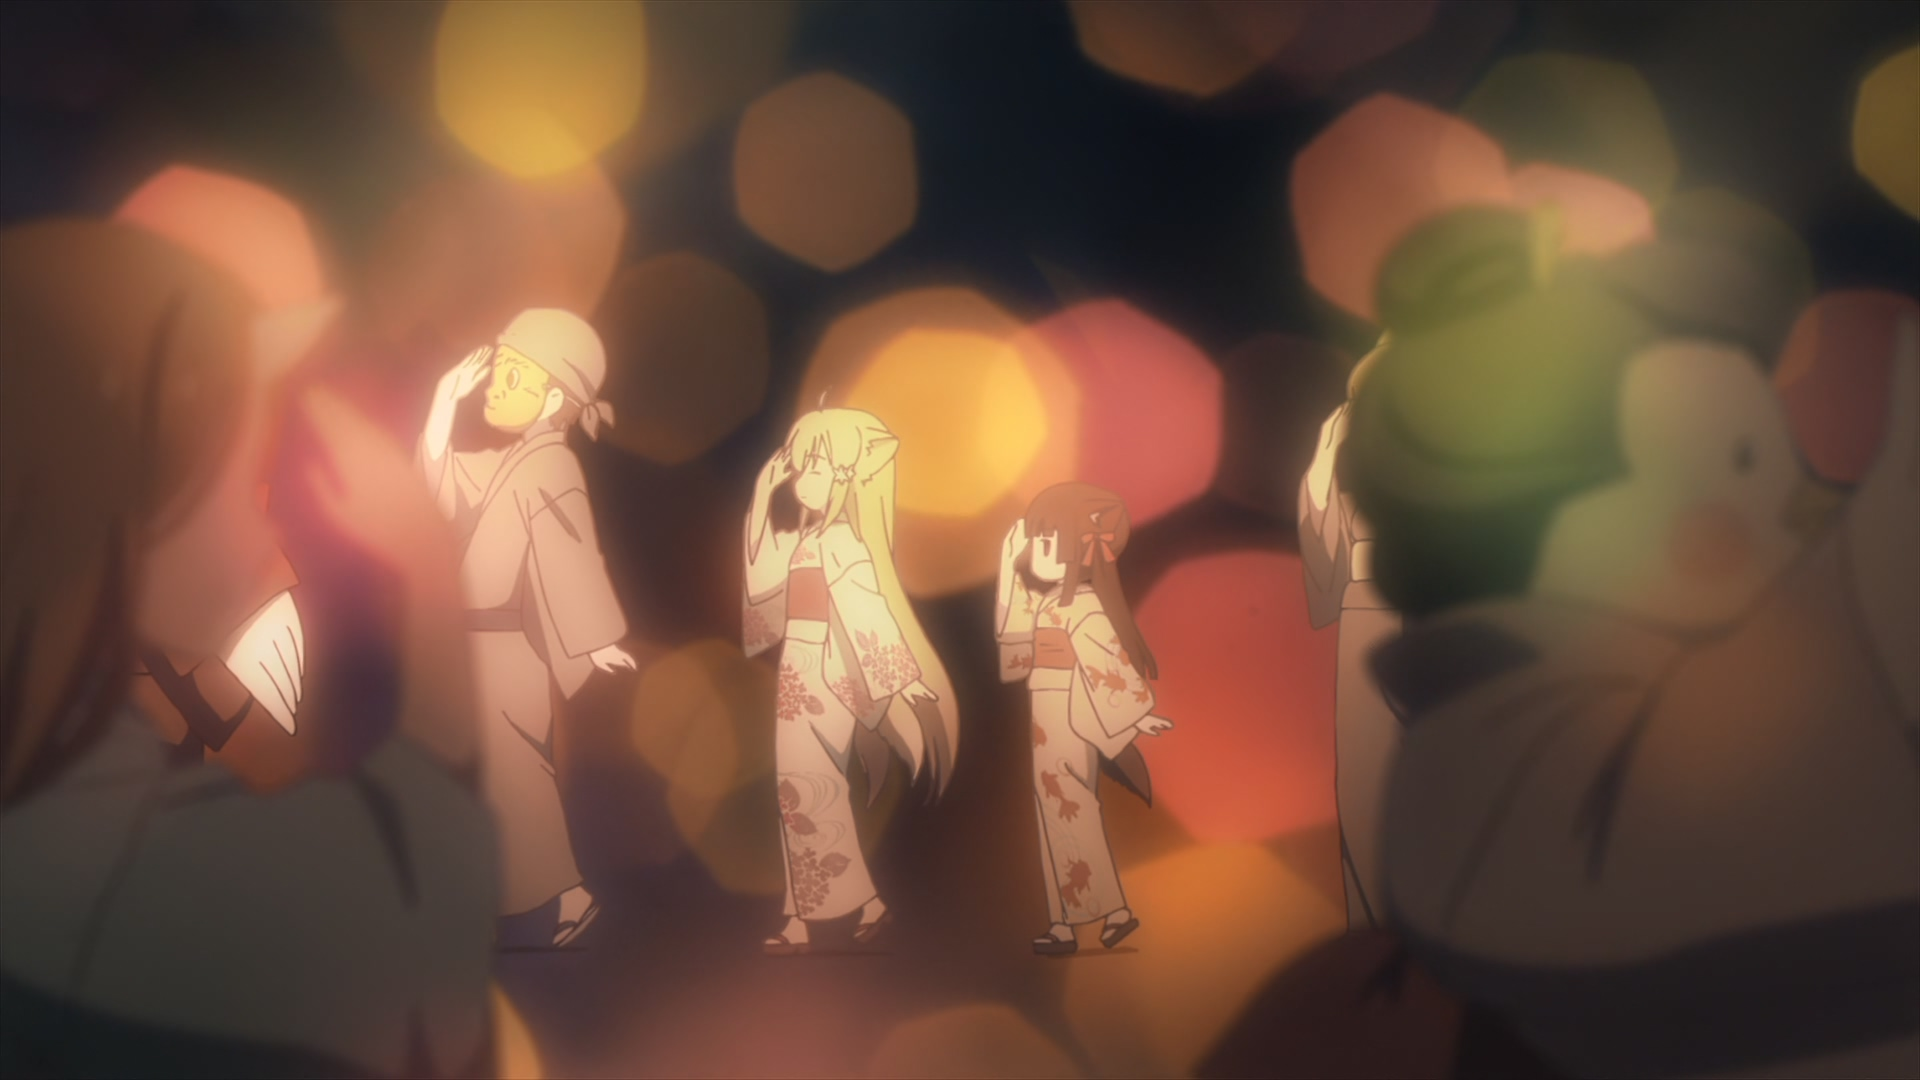其他: (1338, 199, 1920, 1080), (1, 220, 506, 1080), (415, 307, 637, 947)
柚: (740, 381, 961, 956)
樱: (998, 479, 1172, 956)
